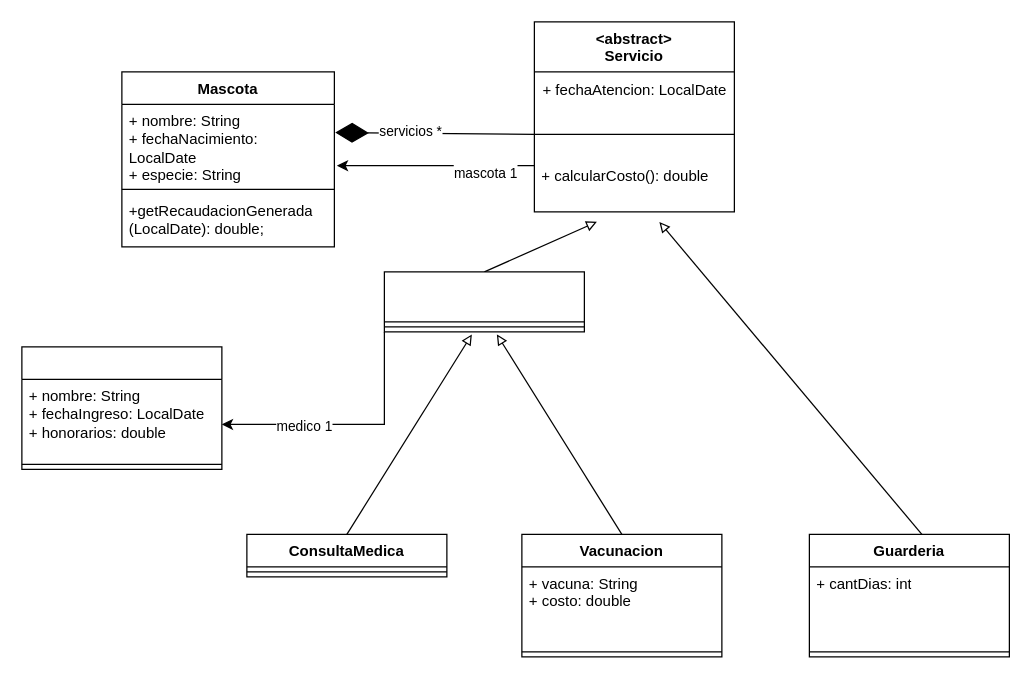
The diagram is 1031 pixels wide and 679 high, and some of its shapes have lost their labels. The shapes that lost their labels are listed below. From the top down, each one's box as (x1, y1, x2, y2) in pixels, then its label:
(383, 271, 584, 332): <abstract> ServicioIntervenido
(21, 346, 222, 469): Medico
